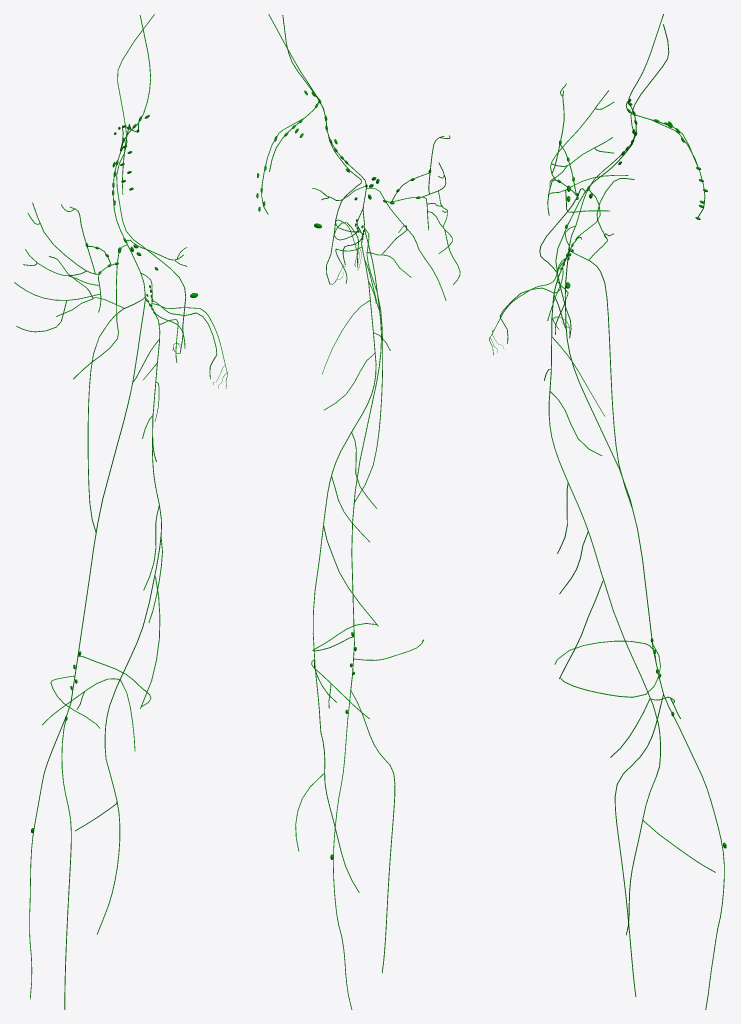
Rendered from Lower limb Lymphatic.fbx.
The picture shows the model from 3 angles, left to right: view 1: azimuth 30°, elevation 25°; view 2: azimuth 150°, elevation 25°; view 3: azimuth 270°, elevation 25°; orthographic projection. The views are drawn at different scales.
Parts seen in each view (by area): view 1: Femoral_group_of_lymph_vessels_R, Superficial_inguinal_lymph_vessles_R, Fibular_group_of_lymph_vessels_R, Gonadal_lymph_vessels_R; view 2: Femoral_group_of_lymph_vessels_R, Superficial_inguinal_lymph_vessles_R, Fibular_group_of_lymph_vessels_R; view 3: Femoral_group_of_lymph_vessels_R, Superficial_inguinal_lymph_vessles_R, Fibular_group_of_lymph_vessels_R, Gonadal_lymph_vessels_R.
Part boxes in pixels (box(x1,y1,x2,y2)): Femoral_group_of_lymph_vessels_R: box(42, 297, 162, 759); Superficial_inguinal_lymph_vessles_R: box(14, 202, 127, 379); Fibular_group_of_lymph_vessels_R: box(29, 703, 71, 1009); Gonadal_lymph_vessels_R: box(116, 14, 186, 353); Femoral_group_of_lymph_vessels_R: box(311, 228, 423, 740); Superficial_inguinal_lymph_vessles_R: box(366, 135, 460, 300); Fibular_group_of_lymph_vessels_R: box(333, 690, 395, 1009); Femoral_group_of_lymph_vessels_R: box(544, 250, 680, 776); Superficial_inguinal_lymph_vessles_R: box(539, 83, 634, 272); Fibular_group_of_lymph_vessels_R: box(614, 694, 724, 1009); Gonadal_lymph_vessels_R: box(552, 24, 669, 338).
Bounding box in the file's own units: 16.9 × 96.46 × 19.9.
